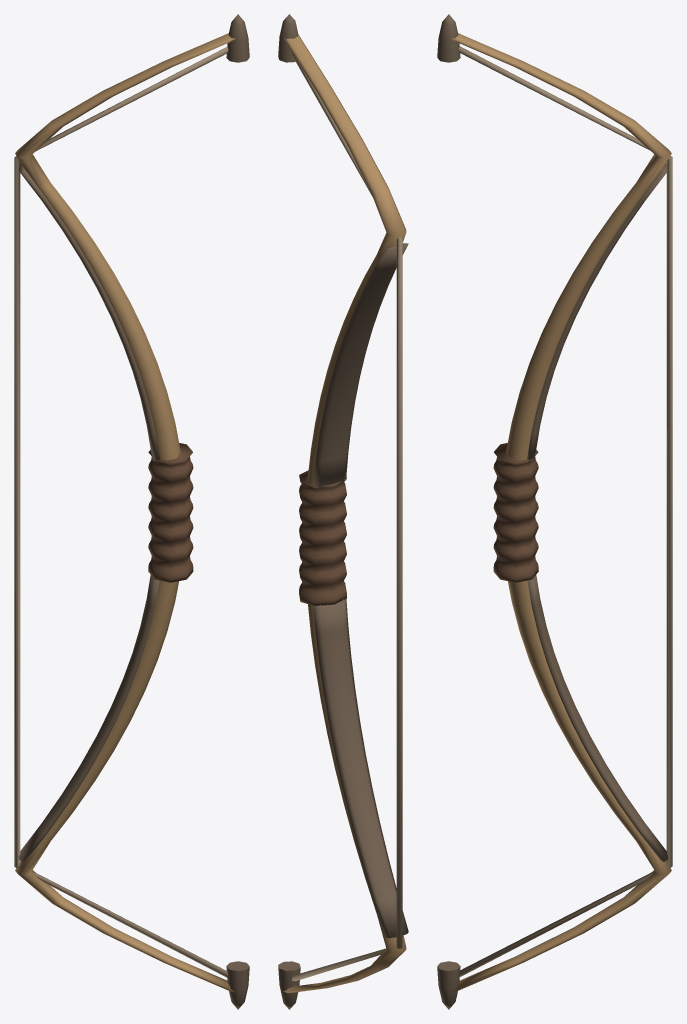
File: reflex-bow.glb
3 views of the same model, side by side, from view 1: azimuth 90°, elevation 25°; view 2: azimuth 210°, elevation 25°; view 3: azimuth 270°, elevation 25° (orthographic).
Parts seen in each view (by area): view 1: reflex-bow; view 2: reflex-bow; view 3: reflex-bow.
Part boxes in pixels (x1,y1,x2,y2): reflex-bow: (14, 14, 249, 1009); reflex-bow: (278, 14, 408, 1009); reflex-bow: (437, 14, 672, 1009).
Size of the model in its own units: 0.1196 by 2.5 by 0.536.
